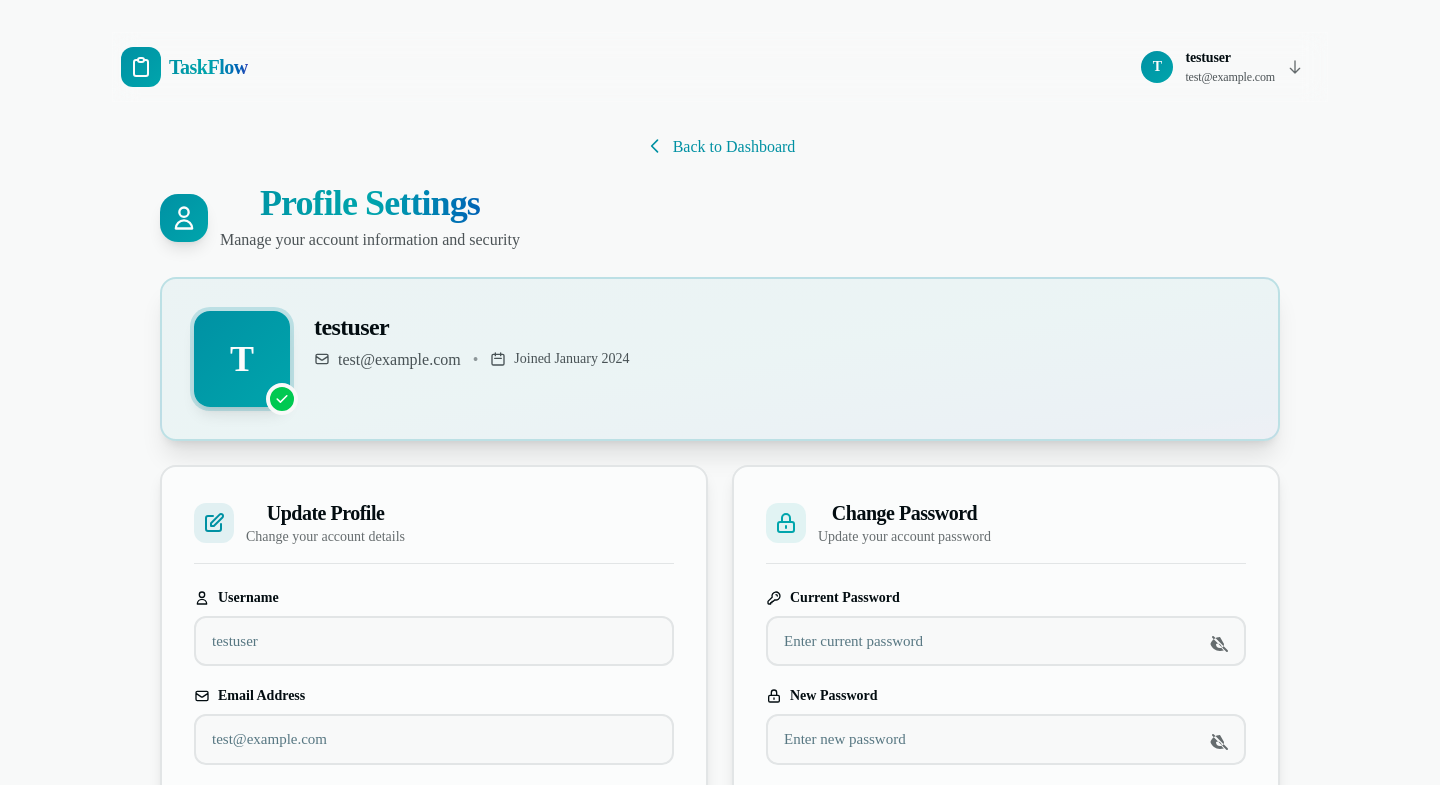
ProfilePage › should show error when passwords do not match
Step 1. Type "newpassword123" into the password field with placeholder "Enter new password" → [1006, 739], box [766,714,1246,765]
(page scrolled)
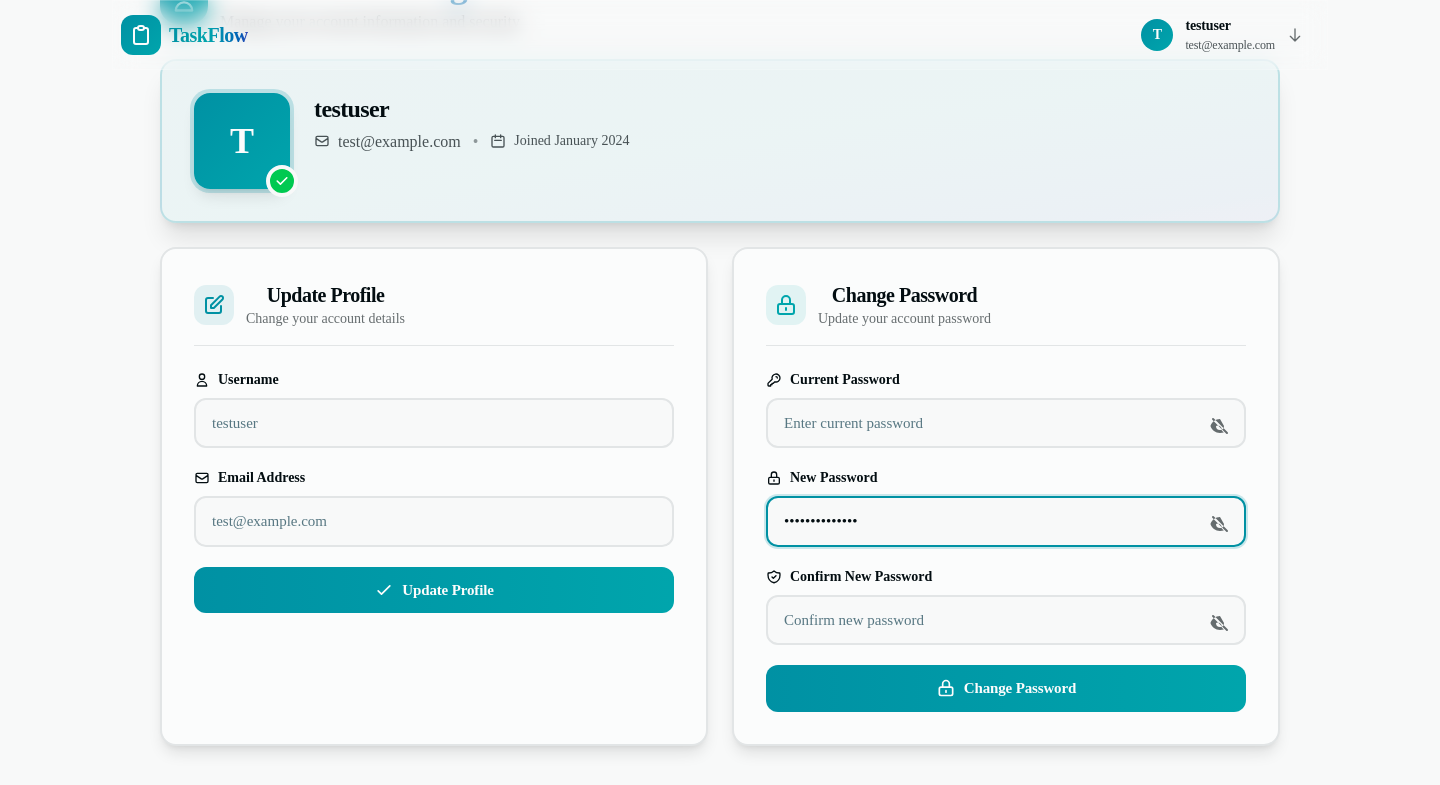
Step 2. Type "differentpassword123" into the password field with placeholder "Confirm new password" → [1006, 620], box [766,595,1246,645]
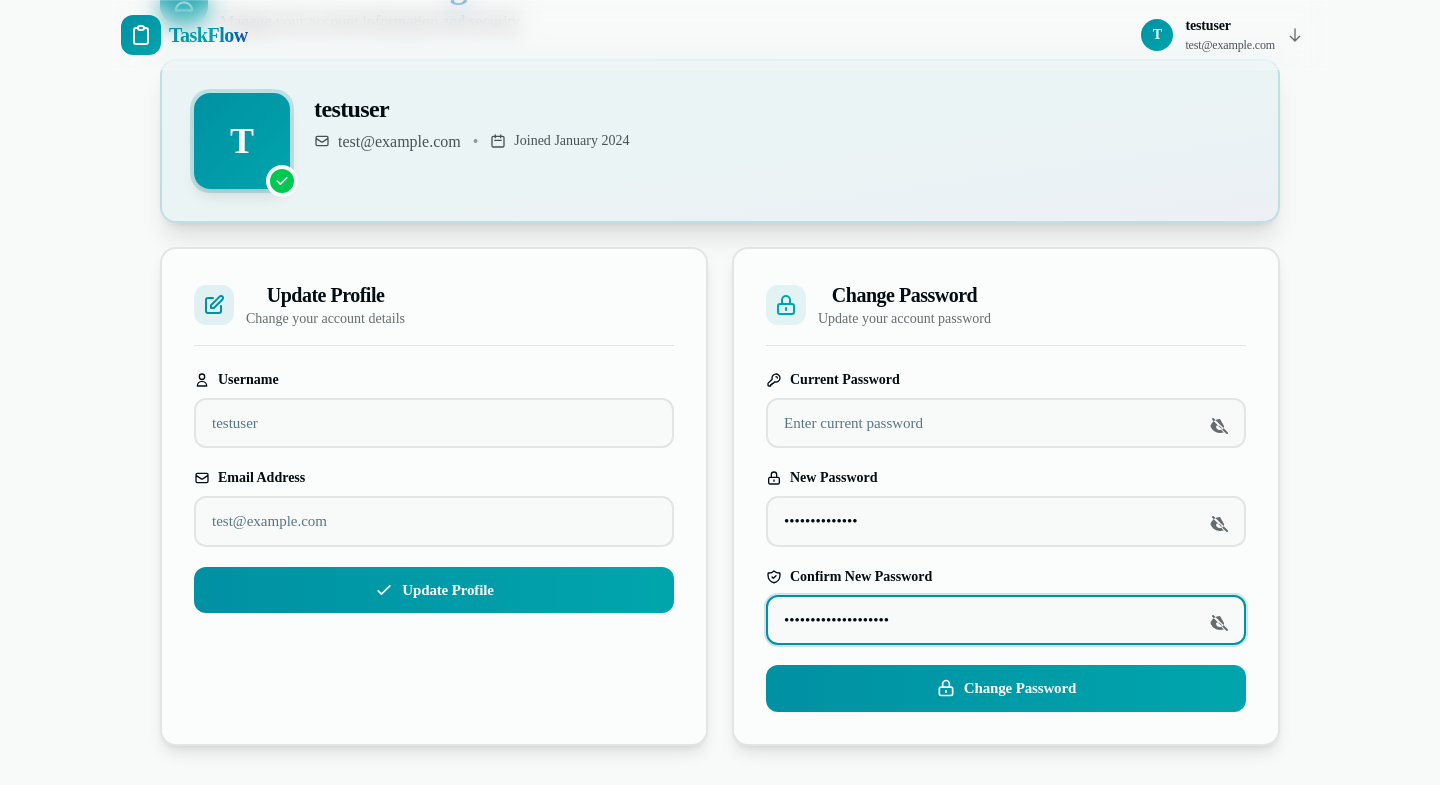
Step 3. Click the button "Change Password" → [1006, 688], box [766,665,1246,712]
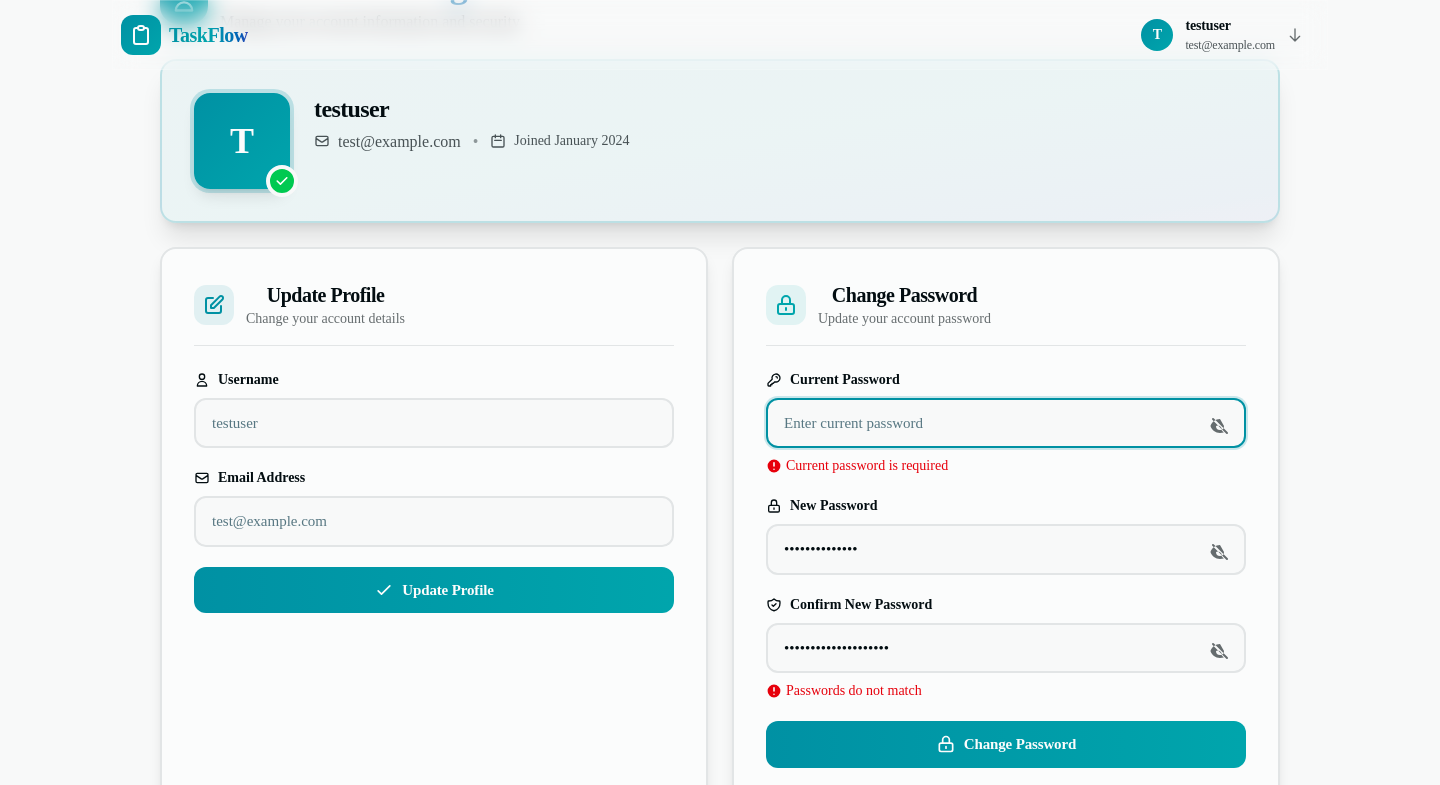
Expected: the text "Passwords do not match" is shown, [766,683,922,699]
